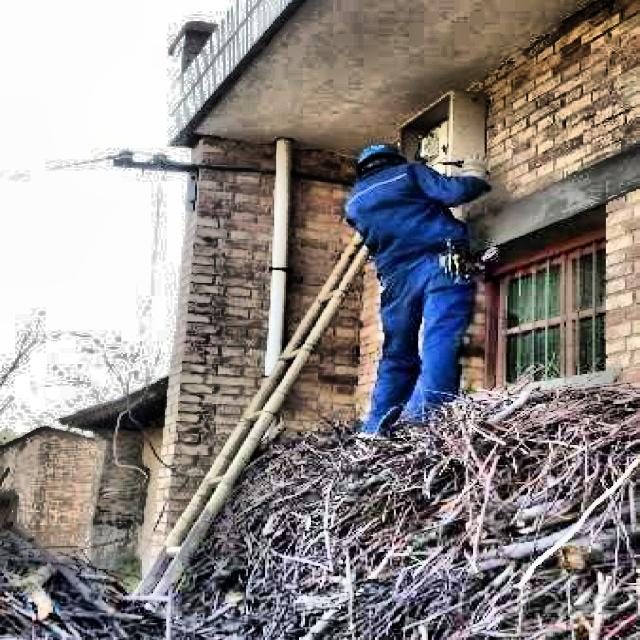helmet: (354, 140, 411, 180)
